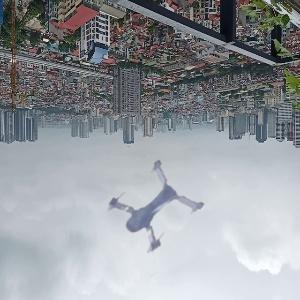drone: (91, 160, 203, 272)
